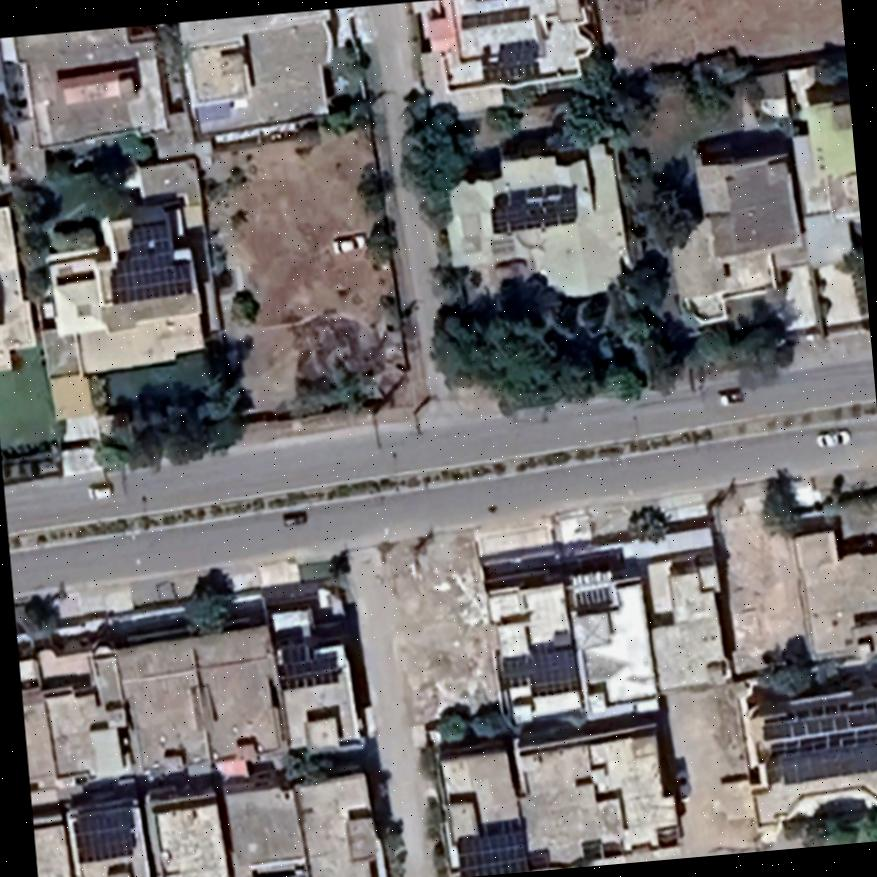Solarpanel: (105, 214, 198, 302), (766, 732, 877, 792), (756, 702, 877, 743), (70, 798, 141, 863), (450, 821, 533, 876), (498, 644, 580, 698), (482, 193, 579, 237), (278, 634, 341, 693), (456, 0, 536, 35), (477, 55, 540, 82)
